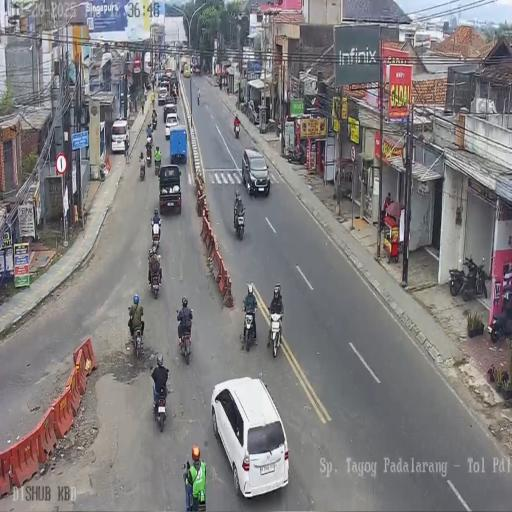3: (169, 127, 187, 165), (166, 56, 176, 73)
car: (209, 376, 288, 498), (242, 148, 270, 198), (158, 163, 182, 214), (111, 118, 130, 153), (158, 86, 168, 105), (155, 70, 165, 85), (184, 64, 190, 78), (194, 65, 201, 75)
truck: (461, 254, 484, 302), (488, 301, 512, 342), (240, 303, 258, 353), (177, 313, 193, 365), (152, 382, 168, 432), (268, 310, 283, 357), (132, 314, 144, 360), (233, 204, 246, 239), (286, 143, 306, 165), (150, 261, 161, 298), (151, 219, 161, 246), (154, 153, 161, 177), (146, 142, 152, 166), (140, 158, 146, 181), (234, 118, 240, 138), (241, 99, 248, 115), (152, 111, 157, 130), (276, 120, 281, 138), (129, 99, 134, 114), (144, 84, 147, 98)
